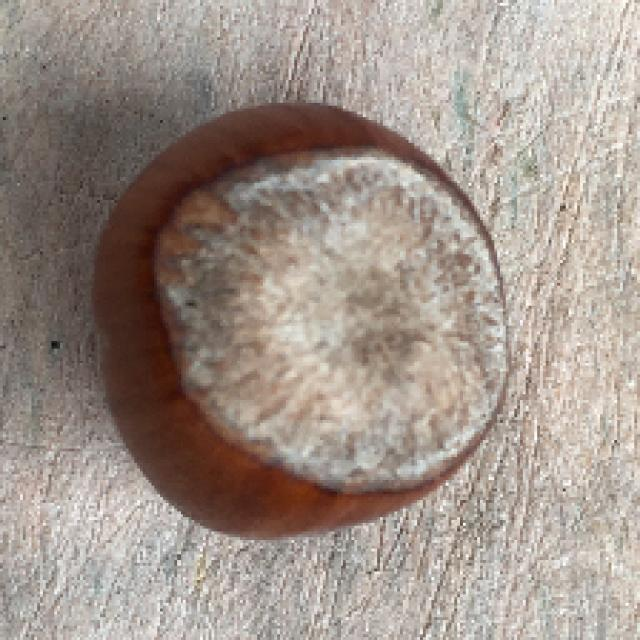QualityHazelnut: (96, 94, 518, 542)
